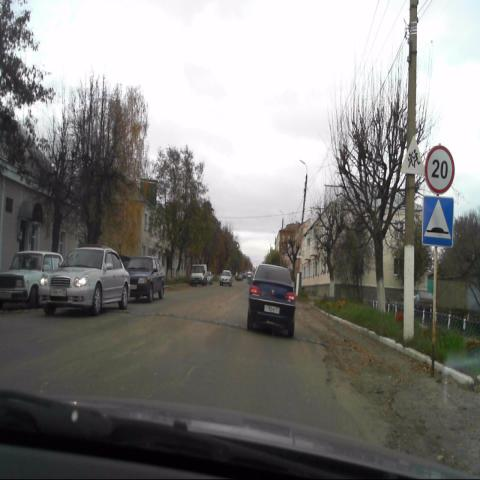1_23: (402, 135, 424, 177)
3_24: (425, 143, 455, 194)
5_20: (422, 196, 454, 247)
